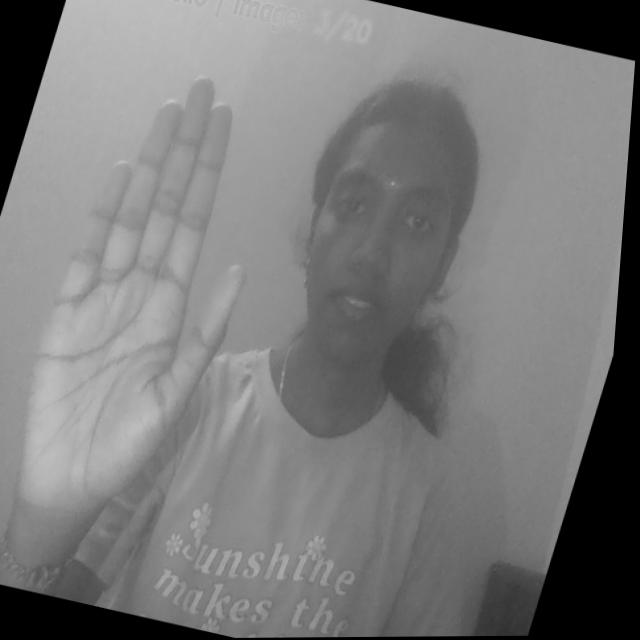Hello: (0, 54, 308, 553)
